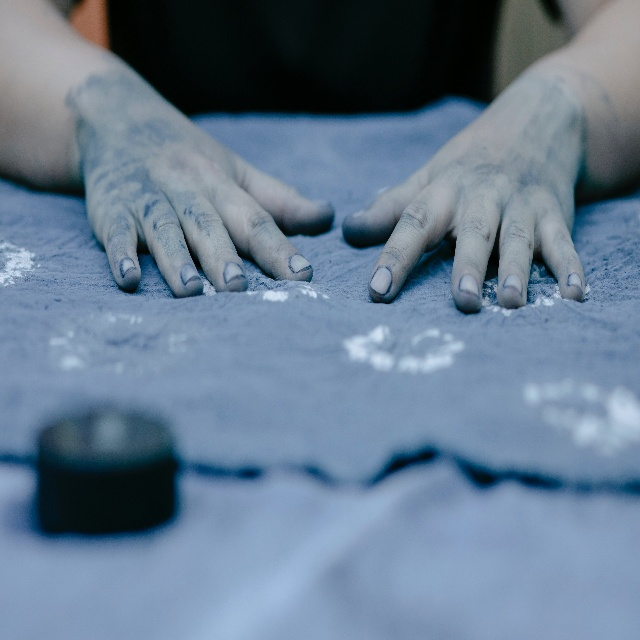Sin_guantes: (64, 58, 333, 293), (341, 62, 586, 310)
